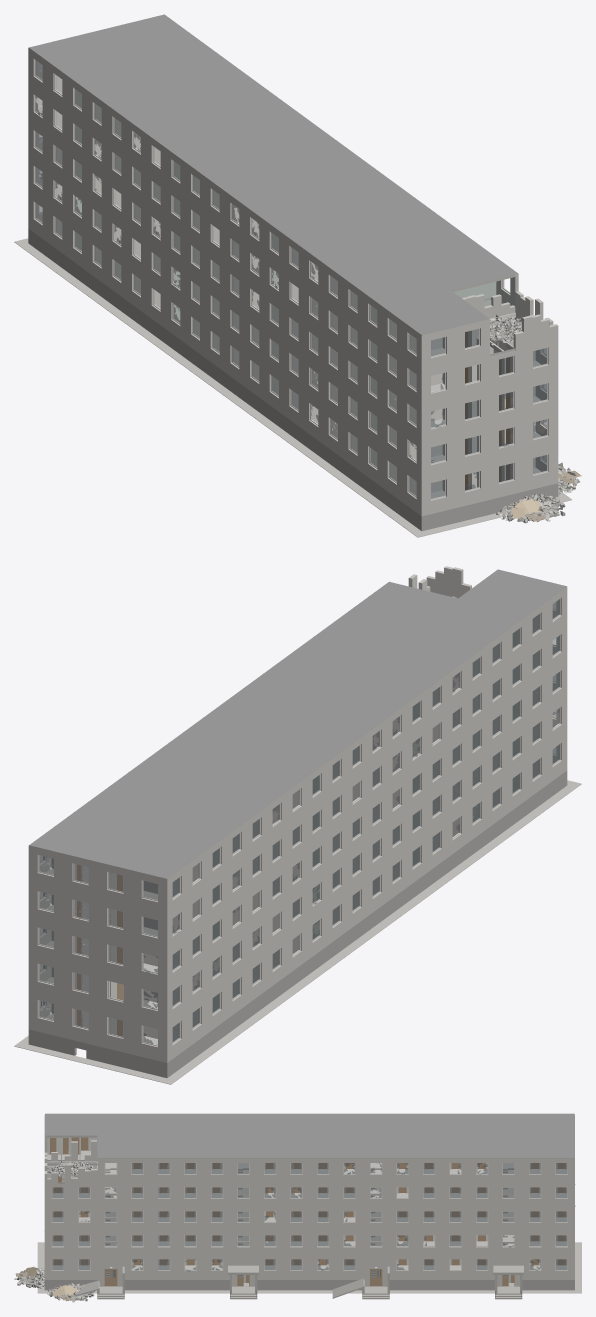
3 renders of one model, top to bottom at view 1: azimuth 30°, elevation 25°; view 2: azimuth 150°, elevation 25°; view 3: azimuth 270°, elevation 25°, orthographic. The views are drawn at different scales.
Visible parts, largest first — view 1: b5_slab_f05__roof, b5_outer_f04__facade_panel, b5_outer_f02__facade_panel, b5_outer_f01__facade_panel, b5_outer_f03__facade_panel, b5_outer_f00__facade_panel, b5_outer_f00__plinth, b5_apron_f00, b5_glass_f00, b5_glass_f02, b5_glass_f01, b5_glass_f04 (+14 smaller); view 2: b5_slab_f05__roof, b5_outer_f04__facade_panel, b5_outer_f02__facade_panel, b5_outer_f01__facade_panel, b5_outer_f00__facade_panel, b5_outer_f03__facade_panel, b5_outer_f00__plinth, b5_apron_f00, b5_glass_f04, b5_glass_f00, b5_glass_f02, b5_glass_f03 (+12 smaller); view 3: b5_slab_f05__roof, b5_outer_f04__facade_panel, b5_outer_f00__facade_panel, b5_outer_f02__facade_panel, b5_outer_f03__facade_panel, b5_outer_f01__facade_panel, b5_outer_f00__plinth, b5_glass_f02, b5_glass_f03, b5_apron_f00, b5_glass_f01, b5_porch_f00__monolith (+26 smaller).
Part boxes in pixels (left/top/right/bottom): b5_slab_f05__roof: left=29, top=14, right=517, bottom=335; b5_outer_f04__facade_panel: left=28, top=48, right=558, bottom=373; b5_outer_f02__facade_panel: left=28, top=121, right=558, bottom=444; b5_outer_f01__facade_panel: left=28, top=157, right=558, bottom=480; b5_outer_f03__facade_panel: left=28, top=86, right=558, bottom=409; b5_outer_f00__facade_panel: left=28, top=193, right=558, bottom=516; b5_outer_f00__plinth: left=28, top=228, right=558, bottom=531; b5_apron_f00: left=14, top=238, right=571, bottom=537; b5_glass_f00: left=35, top=203, right=547, bottom=498; b5_glass_f02: left=35, top=132, right=547, bottom=427; b5_glass_f01: left=35, top=167, right=547, bottom=463; b5_glass_f04: left=35, top=60, right=478, bottom=356; b5_slab_f05__roof: left=29, top=569, right=566, bottom=878; b5_outer_f04__facade_panel: left=28, top=566, right=567, bottom=917; b5_outer_f02__facade_panel: left=28, top=662, right=567, bottom=990; b5_outer_f01__facade_panel: left=28, top=698, right=567, bottom=1026; b5_outer_f00__facade_panel: left=28, top=734, right=567, bottom=1062; b5_outer_f03__facade_panel: left=28, top=625, right=567, bottom=953; b5_outer_f00__plinth: left=28, top=770, right=567, bottom=1077; b5_apron_f00: left=14, top=780, right=581, bottom=1084; b5_glass_f04: left=39, top=599, right=559, bottom=900; b5_glass_f00: left=39, top=744, right=559, bottom=1044; b5_glass_f02: left=39, top=672, right=559, bottom=973; b5_glass_f03: left=39, top=635, right=559, bottom=936; b5_slab_f05__roof: left=45, top=1113, right=574, bottom=1157; b5_outer_f04__facade_panel: left=44, top=1116, right=574, bottom=1183; b5_outer_f00__facade_panel: left=44, top=1256, right=574, bottom=1286; b5_outer_f02__facade_panel: left=44, top=1208, right=574, bottom=1231; b5_outer_f03__facade_panel: left=44, top=1184, right=574, bottom=1207; b5_outer_f01__facade_panel: left=44, top=1232, right=574, bottom=1255; b5_outer_f00__plinth: left=44, top=1280, right=574, bottom=1290; b5_glass_f02: left=52, top=1184, right=575, bottom=1221; b5_glass_f03: left=52, top=1187, right=567, bottom=1197; b5_apron_f00: left=37, top=1242, right=581, bottom=1293; b5_glass_f01: left=52, top=1205, right=575, bottom=1247; b5_porch_f00__monolith: left=97, top=1266, right=522, bottom=1299.
Size of the model in its own units: 16.28 by 17.7 by 64.28.
